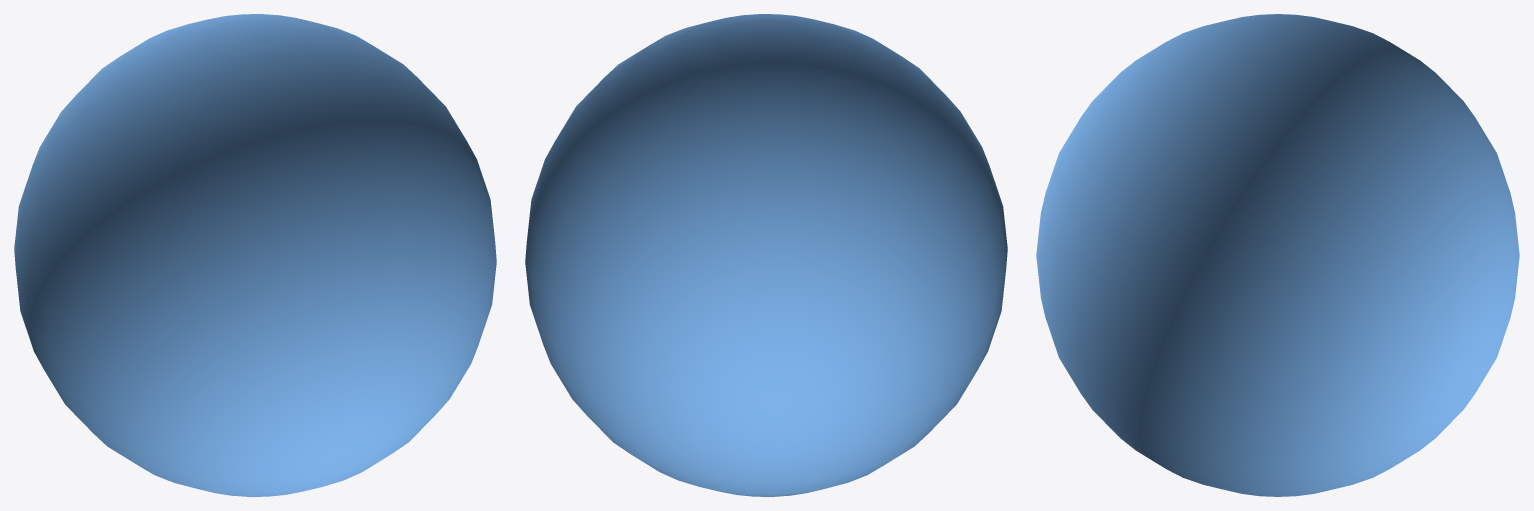
The model's file is cachalote1.glb.
3 renders of one model, left to right at view 1: azimuth 30°, elevation 25°; view 2: azimuth 150°, elevation 25°; view 3: azimuth 270°, elevation 25°, orthographic.
Parts seen in each view (by area): view 1: Sphere; view 2: Sphere; view 3: Sphere.
Part boxes in pixels (box(x1,y1,x2,y2)): Sphere: box(14, 14, 496, 496); Sphere: box(525, 14, 1007, 496); Sphere: box(1036, 14, 1519, 496).
Bounding box in the file's own units: 78.25 × 78.25 × 78.25.
